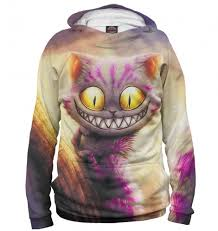cat: (61, 48, 168, 139)
